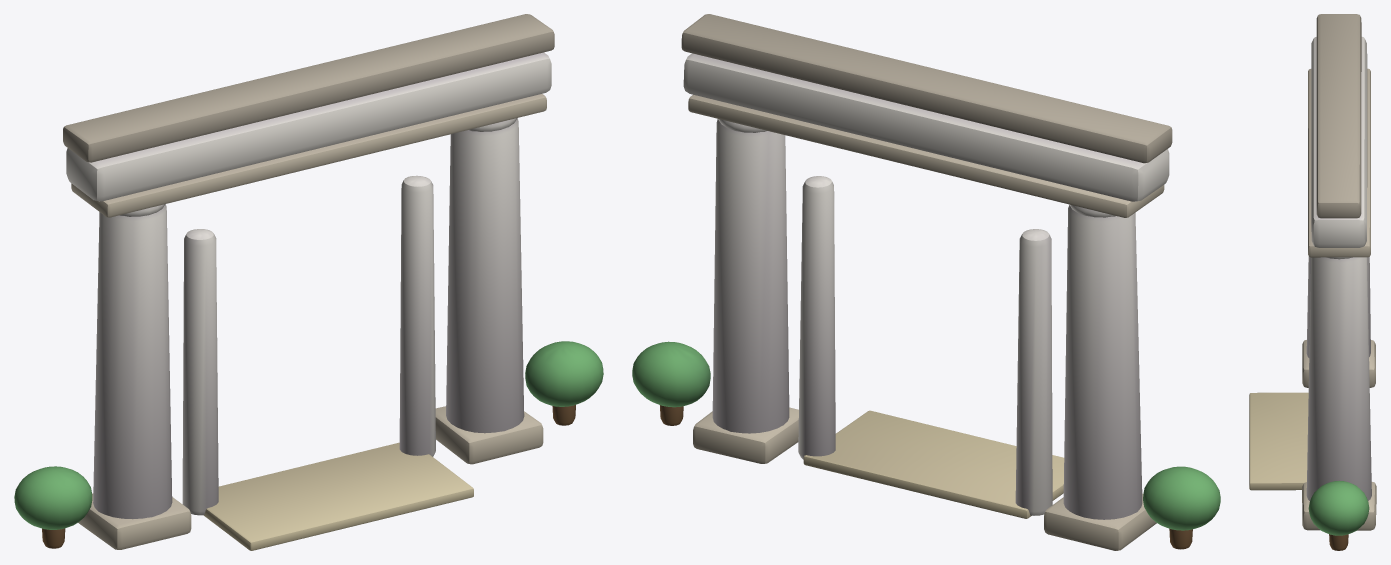
The picture shows the model from 3 angles, left to right: view 1: azimuth 30°, elevation 25°; view 2: azimuth 150°, elevation 25°; view 3: azimuth 270°, elevation 25°; orthographic projection. The views are drawn at different scales.
Visible parts, largest first — view 1: gate_51d07835; view 2: gate_51d07835; view 3: gate_51d07835.
Part boxes in pixels (x1=…): gate_51d07835: x1=14, y1=14, x2=603, y2=550; gate_51d07835: x1=632, y1=14, x2=1220, y2=550; gate_51d07835: x1=1249, y1=14, x2=1376, y2=550.
Size of the model in its own units: 6.21 by 4.18 by 1.42.
